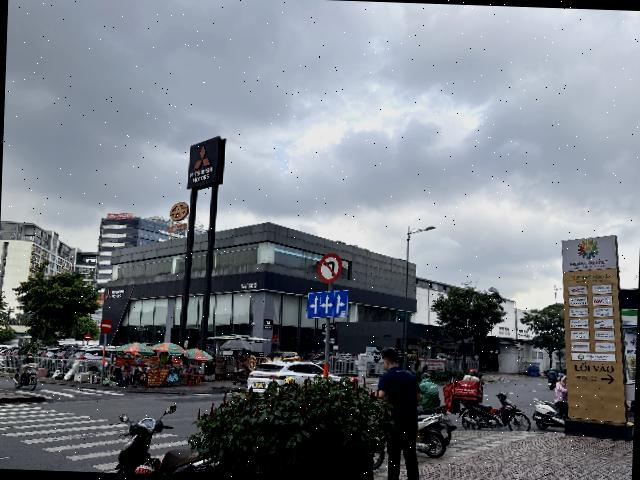cam-di-nguoc-chieu: (100, 318, 114, 334)
cam-re-trai: (316, 252, 344, 284)
